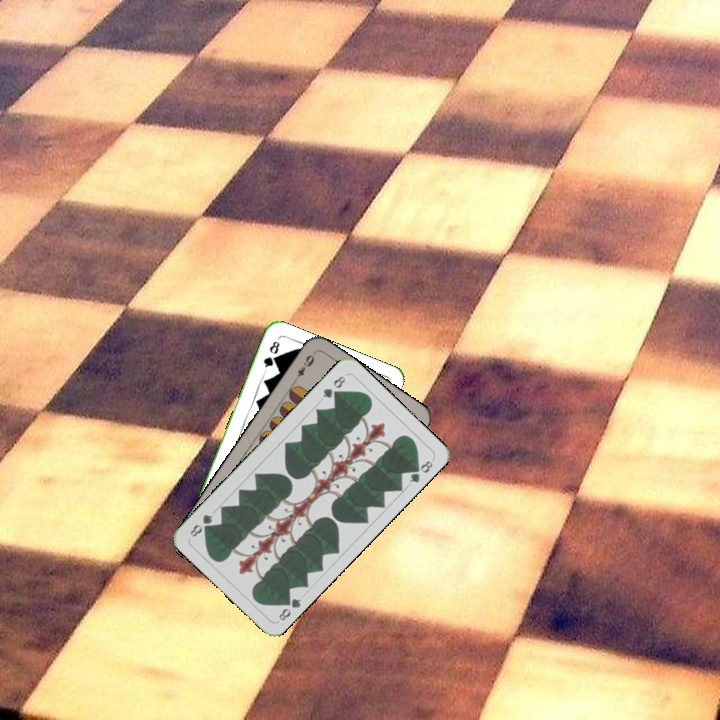E9: (290, 349, 317, 385)
G8: (274, 592, 304, 623), (318, 372, 348, 401), (259, 337, 282, 374)
